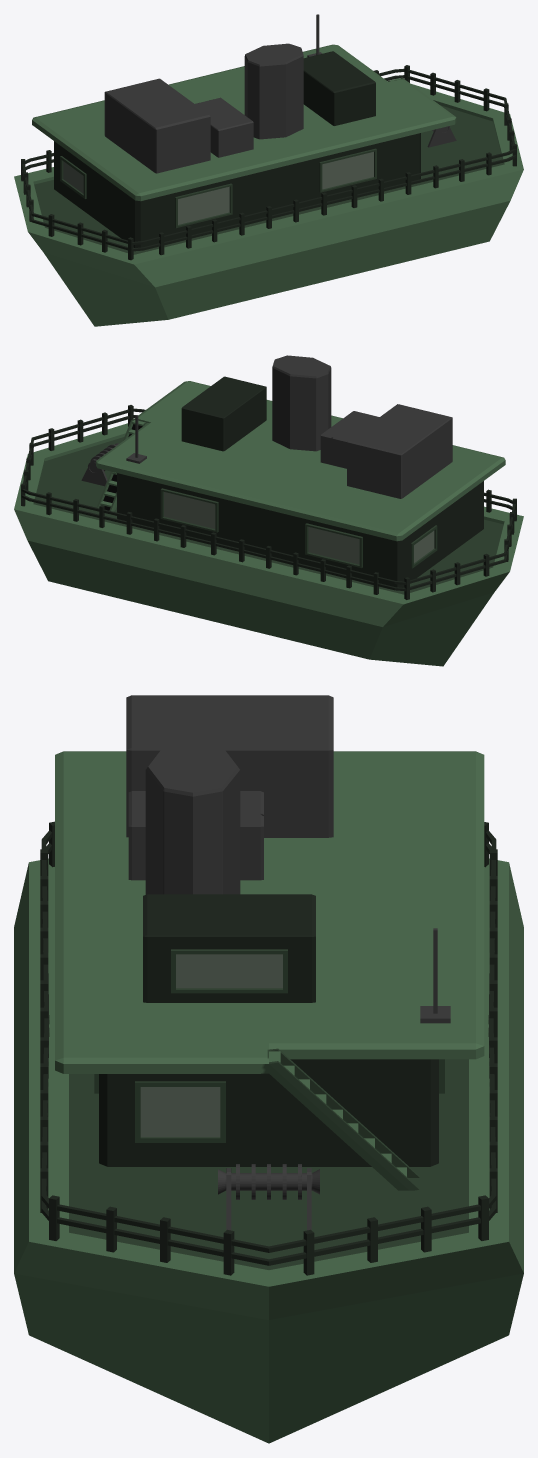
The model's file is GreenShip.fbx.
The picture shows the model from 3 angles, top to bottom: view 1: azimuth 30°, elevation 25°; view 2: azimuth 150°, elevation 25°; view 3: azimuth 270°, elevation 25°; orthographic projection. The views are drawn at different scales.
Parts seen in each view (by area): view 1: GreenShip; view 2: GreenShip; view 3: GreenShip.
Part boxes in pixels (bbox=[...]): GreenShip: bbox=[14, 14, 523, 326]; GreenShip: bbox=[14, 355, 523, 666]; GreenShip: bbox=[14, 695, 523, 1443].
Size of the model in its own units: 3613 by 1771 by 1658.
